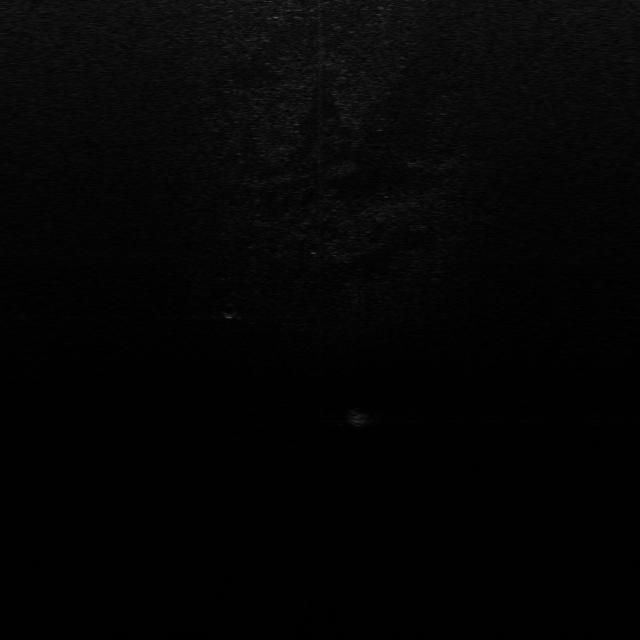ball: (346, 407, 373, 428)
circle cage: (217, 300, 244, 319)
